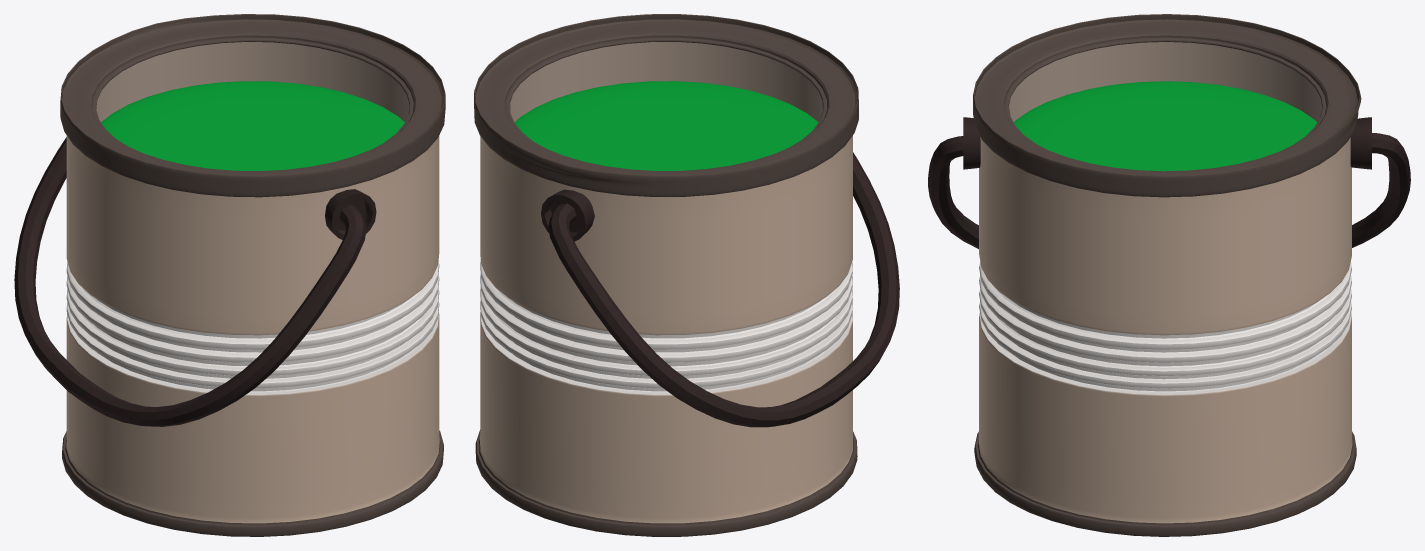
The model's file is Paint_Green.fbx.
3 views of the same model, side by side, from view 1: azimuth 30°, elevation 25°; view 2: azimuth 150°, elevation 25°; view 3: azimuth 270°, elevation 25° (orthographic).
Parts seen in each view (by area): view 1: paint_body_handle, paint_green1; view 2: paint_body_handle, paint_green1; view 3: paint_body_handle, paint_green1.
Boxes of the visible parts, x1=… form: paint_body_handle: x1=14, y1=14, x2=445, y2=536; paint_green1: x1=101, y1=81, x2=404, y2=170; paint_body_handle: x1=474, y1=14, x2=899, y2=536; paint_green1: x1=514, y1=81, x2=818, y2=170; paint_body_handle: x1=928, y1=14, x2=1410, y2=536; paint_green1: x1=1014, y1=81, x2=1317, y2=171.
Bounding box in the file's own units: 2.12 × 2.11 × 2.56.
Materials: 3 (1 with a texture image).
